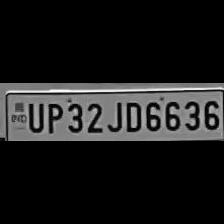2: (84, 99, 104, 134)
3: (182, 97, 200, 132), (64, 99, 82, 133)
6: (200, 96, 220, 132), (142, 98, 162, 132), (162, 98, 180, 132)
D: (122, 99, 142, 134)
J: (105, 99, 123, 134)
P: (43, 100, 62, 134)
U: (24, 99, 43, 133)
